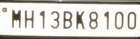character: (74, 10, 86, 30), (88, 10, 99, 30), (50, 10, 61, 29), (114, 11, 125, 30), (11, 8, 21, 28), (24, 9, 34, 29), (63, 10, 73, 29), (127, 11, 137, 30), (103, 10, 110, 30), (39, 10, 46, 29)
